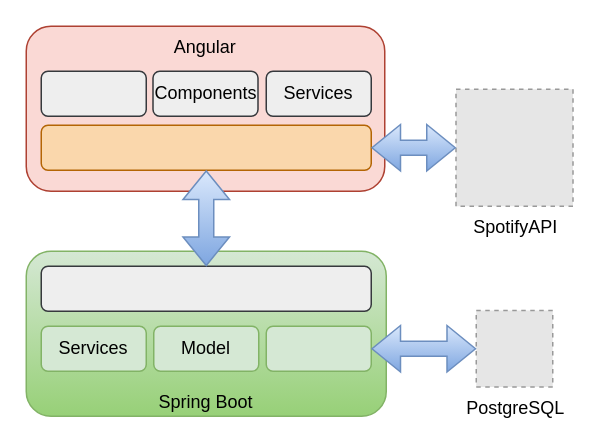
This 600x444 diagram has some shape labels left out. Grey dashed boxes stand in for pictures. Here are the shapes that lost their labels. From the top down, the centre of each, then its label:
At pixel 93 93: "Templates".
At pixel 205 147: "HTTP Client".
At pixel 205 288: "Spring REST Controller".
At pixel 318 348: "Data JPA".
